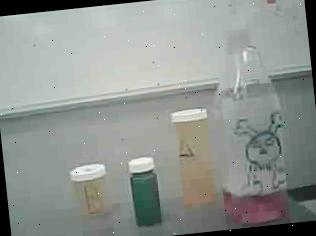Bottle A: (169, 106, 220, 210)
Bottle B: (67, 160, 116, 222)
Bottle C: (126, 152, 172, 230)
hazard: (201, 0, 301, 229)
